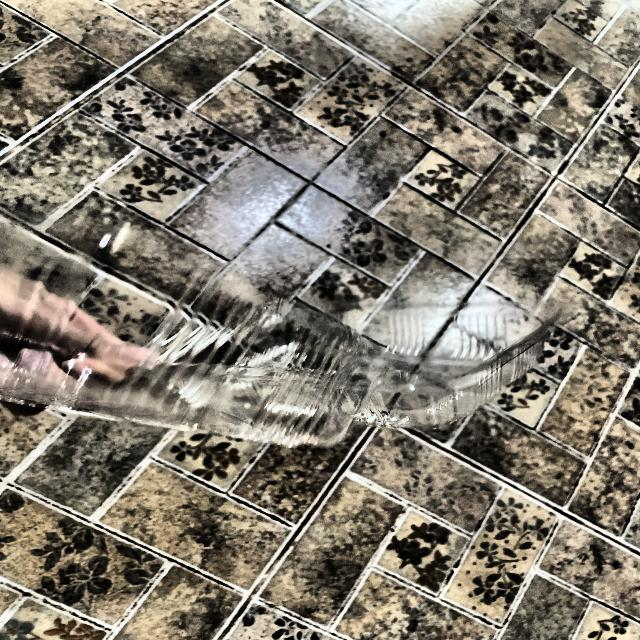plastic container: (11, 216, 558, 461)
